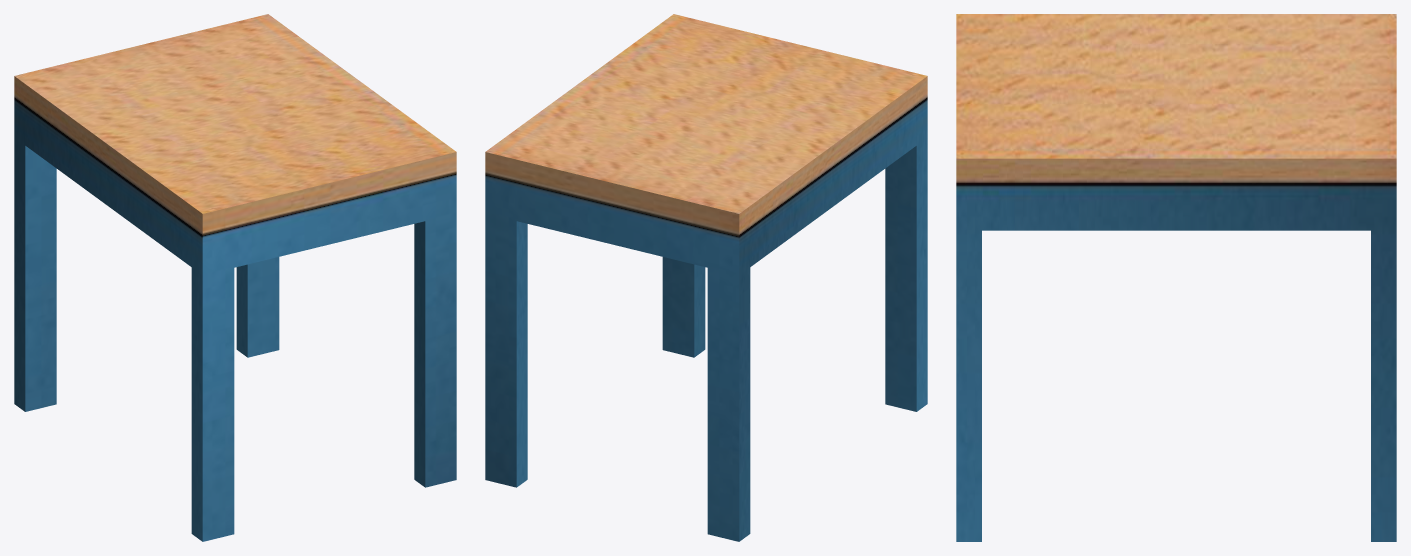
File: workingTable2.obj
The picture shows the model from 3 angles, left to right: view 1: azimuth 30°, elevation 25°; view 2: azimuth 150°, elevation 25°; view 3: azimuth 270°, elevation 25°; orthographic projection. The views are drawn at different scales.
Visible parts, largest first — view 1: c1_tav; view 2: c1_tav; view 3: c1_tav.
Part boxes in pixels (bbox=[...]): c1_tav: bbox=[14, 14, 456, 541]; c1_tav: bbox=[485, 14, 927, 541]; c1_tav: bbox=[956, 14, 1396, 541].
Bounding box in the file's own units: 700 × 864 × 900.
Materials: 1 (1 with a texture image).
